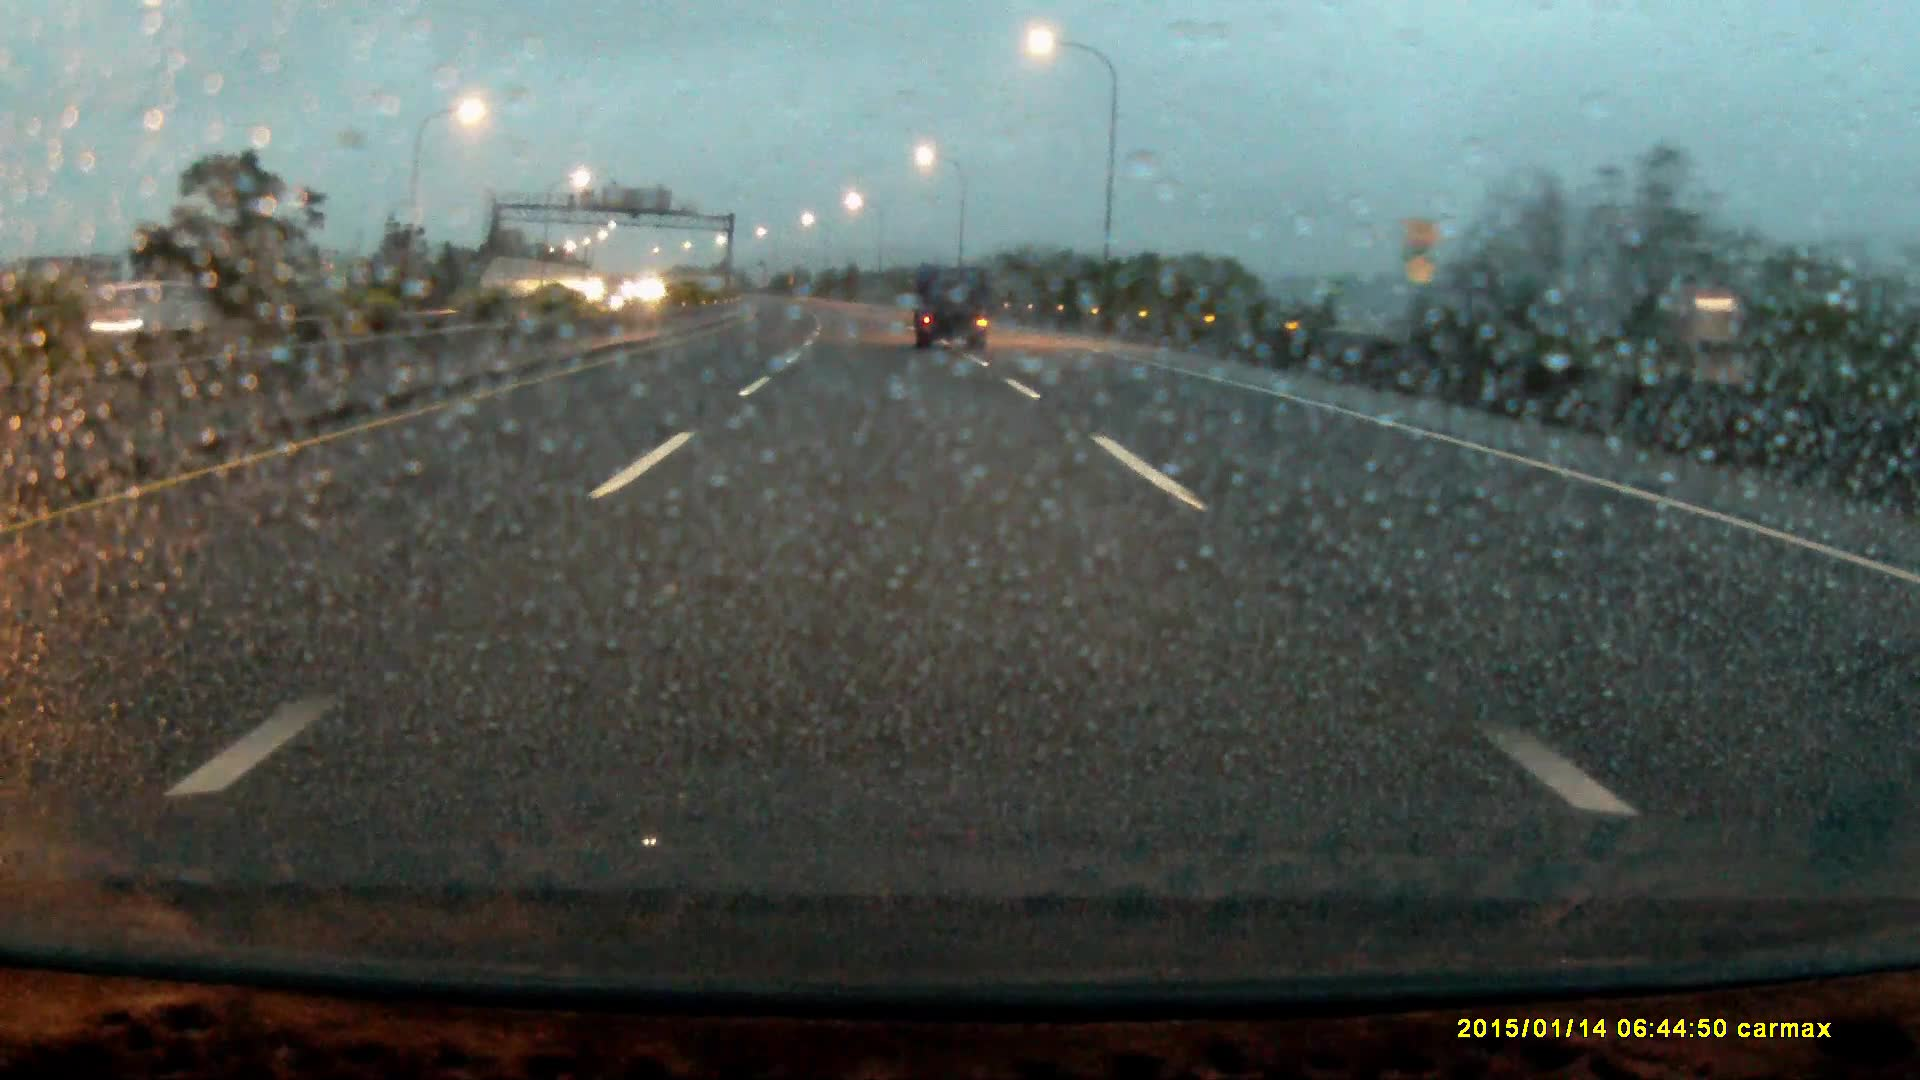vehicle: (913, 272, 992, 356)
